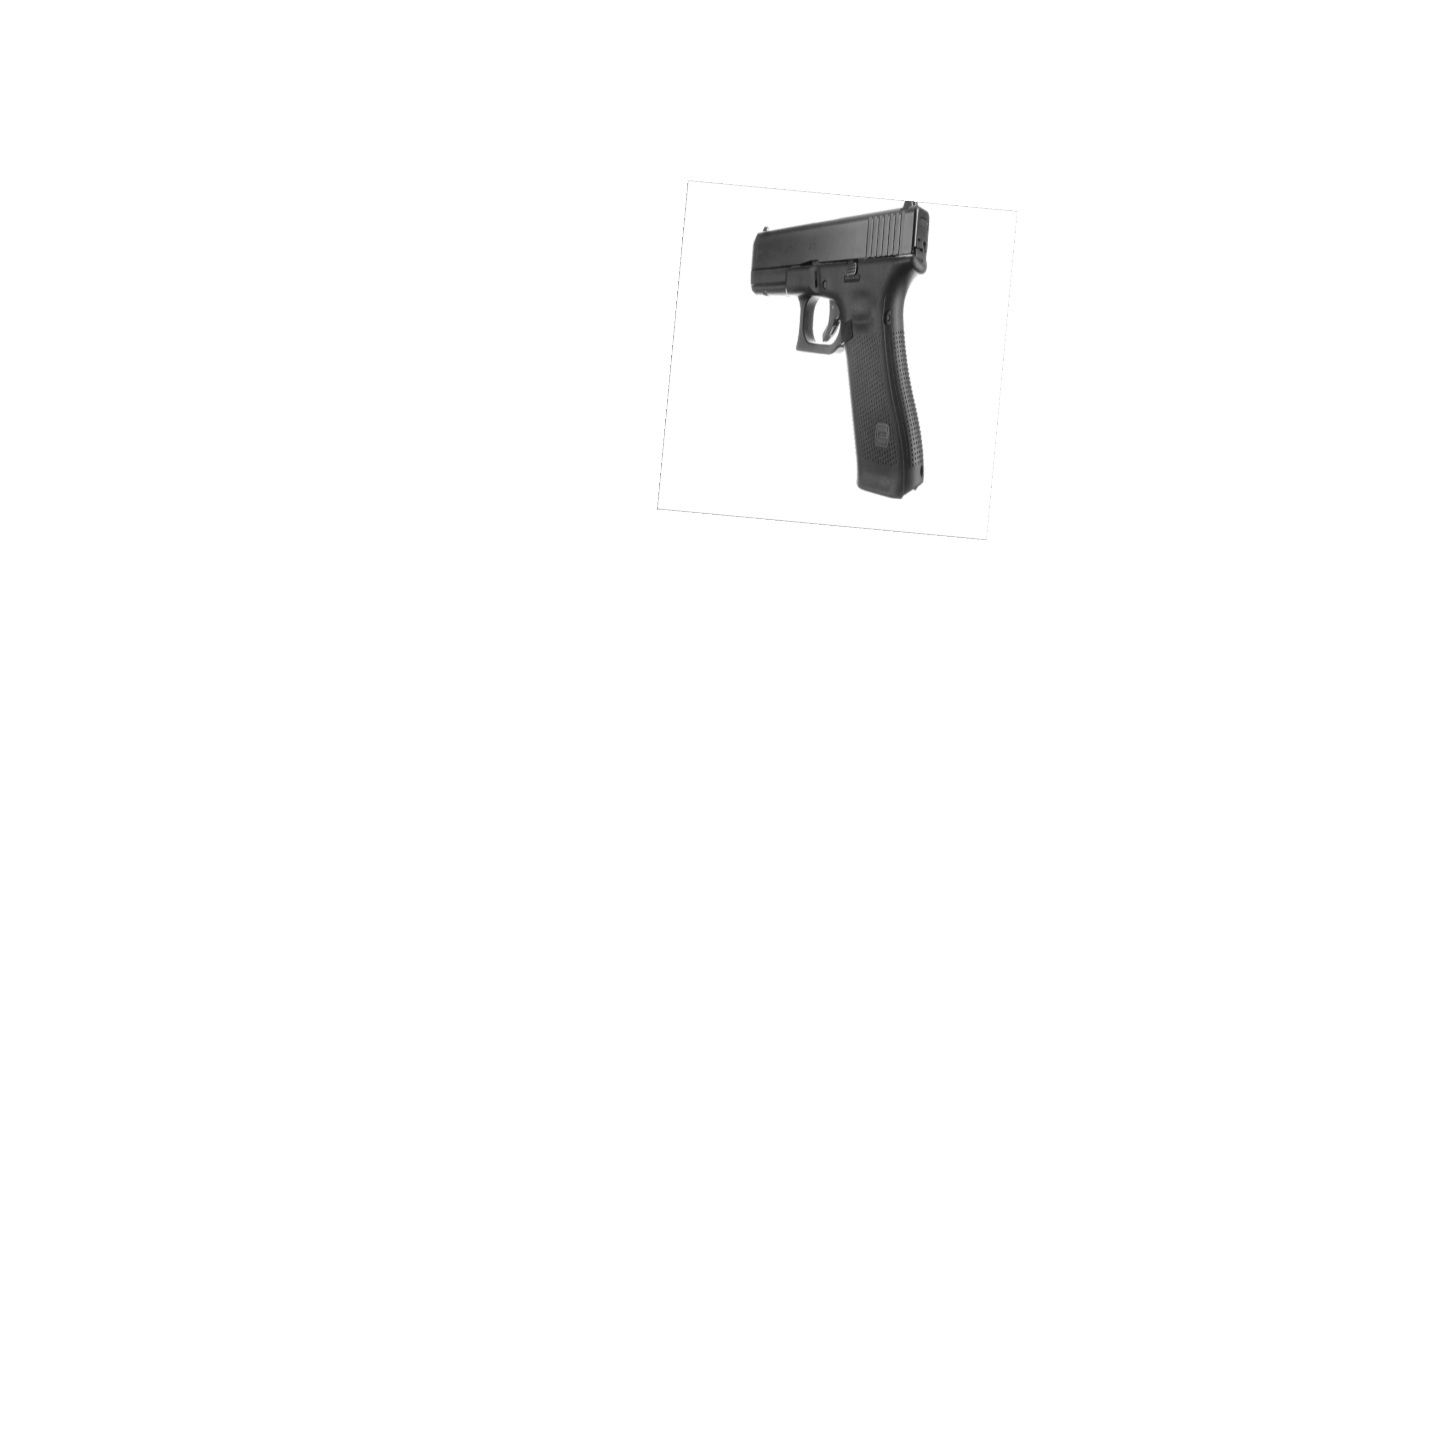gun: (751, 198, 931, 500)
